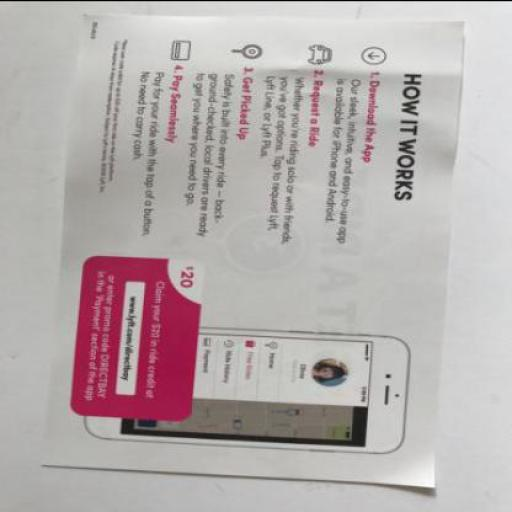paper: (42, 10, 465, 486)
